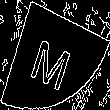M_N: (30, 22, 80, 88)
